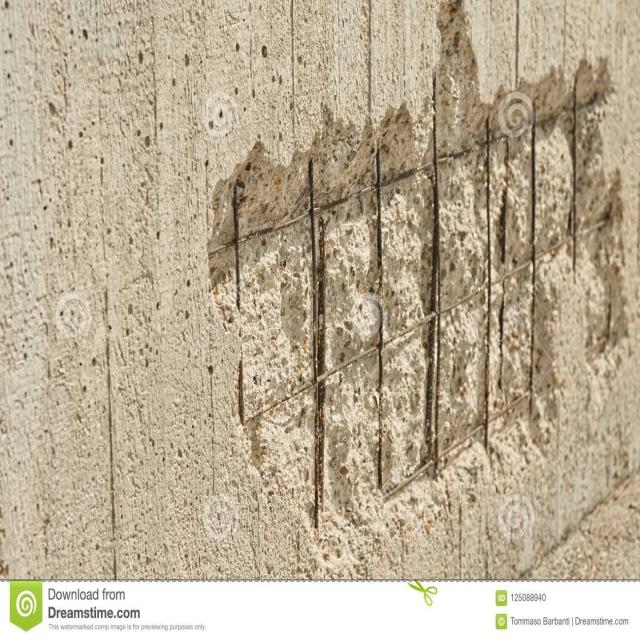Spalling: (196, 13, 636, 520)
